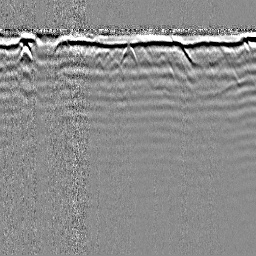cavity: (119, 44, 137, 63)
